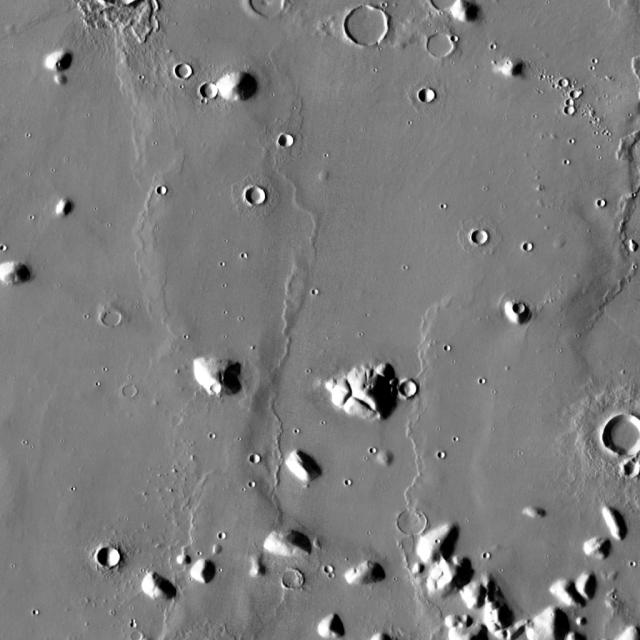crater: (347, 5, 391, 45), (605, 415, 640, 456), (400, 509, 429, 535), (428, 33, 456, 58), (99, 545, 120, 564), (284, 570, 305, 588), (247, 187, 267, 204), (103, 308, 122, 324), (402, 381, 419, 397), (176, 61, 193, 76), (420, 88, 437, 103), (473, 229, 489, 244), (203, 82, 219, 96), (627, 462, 640, 476), (280, 134, 294, 146), (124, 383, 138, 395), (133, 630, 143, 640), (566, 105, 576, 114), (572, 88, 582, 97), (159, 184, 169, 192), (561, 79, 570, 87), (252, 454, 261, 462), (600, 200, 608, 208), (568, 97, 576, 104), (219, 531, 227, 538), (527, 244, 534, 251), (452, 34, 459, 41), (478, 546, 486, 552), (326, 566, 334, 572), (438, 337, 445, 342)
